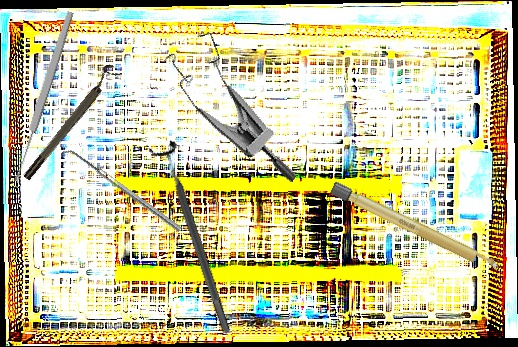Fixation Ring: (146, 137, 242, 339), (16, 61, 123, 183)
Scalpel Handle: (328, 180, 504, 277)
Spatula Surgical: (61, 144, 182, 237)
Speculum: (144, 19, 337, 185)
Surgical Spoon: (10, 10, 76, 183)
